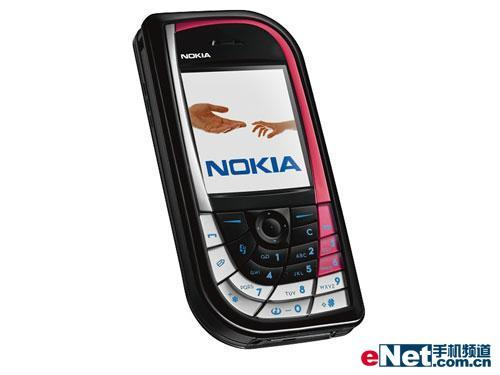phone: (138, 9, 362, 345)
